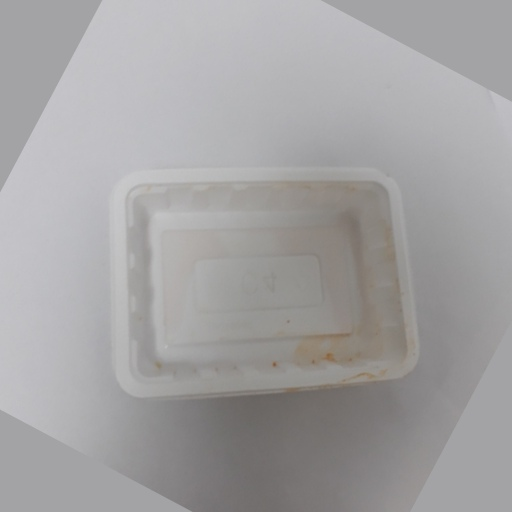Plastic_4: (103, 165, 421, 397)
